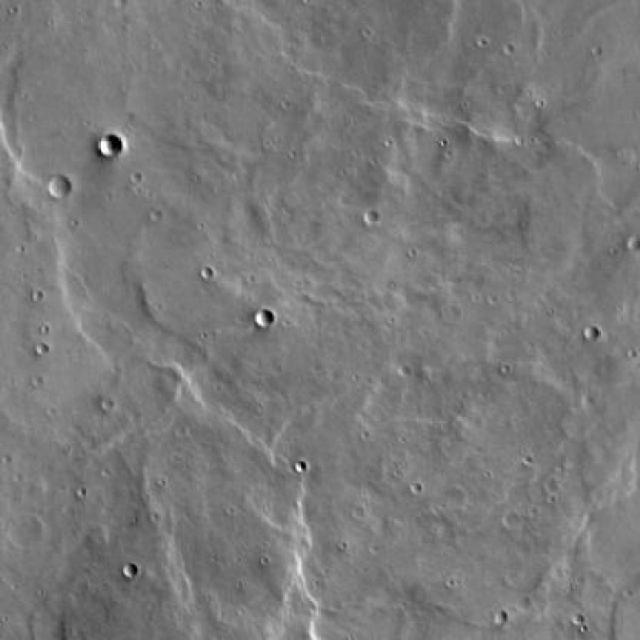crater: (0, 511, 35, 560), (44, 177, 70, 201), (100, 135, 123, 156), (623, 237, 640, 254), (362, 210, 378, 227), (258, 312, 274, 328), (122, 561, 138, 577)
